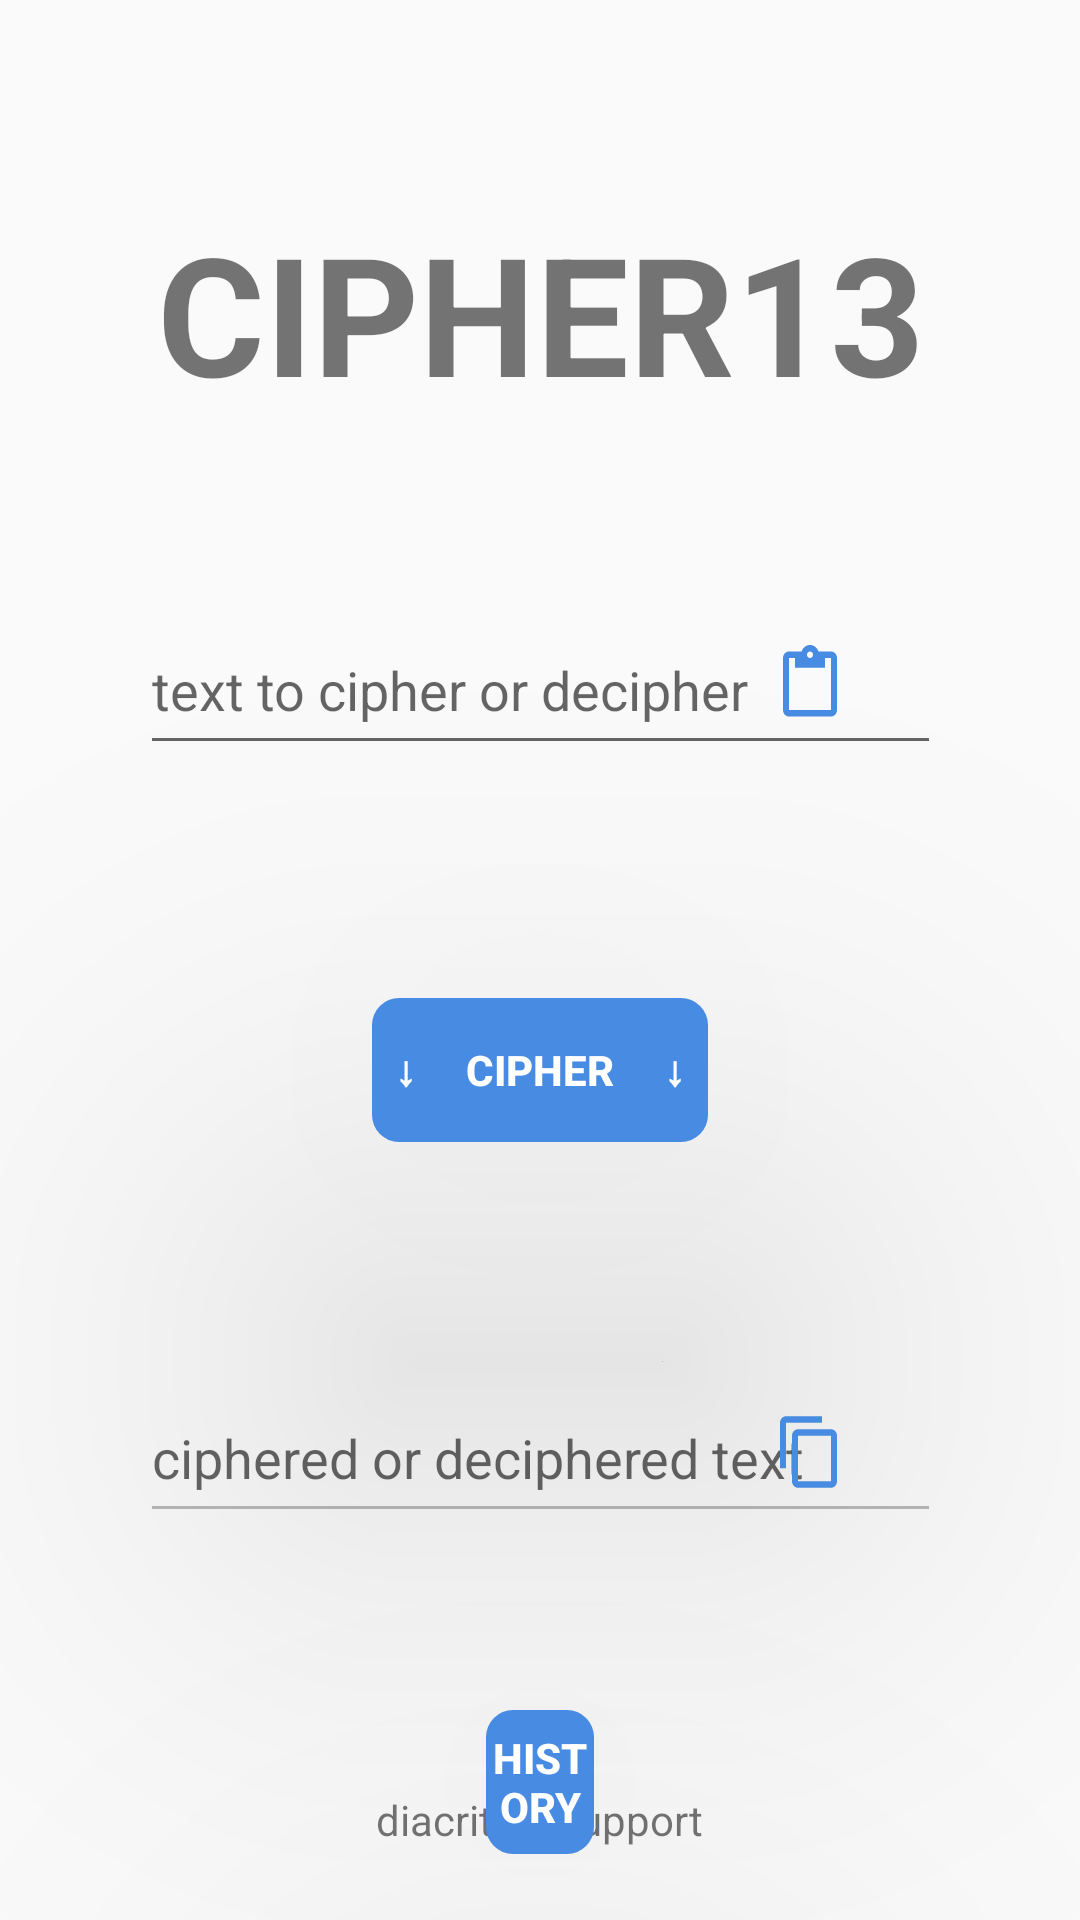

Where to tap for icons on this 1080×1920 app screen, as [x,y]:
content paste: [810,681]
